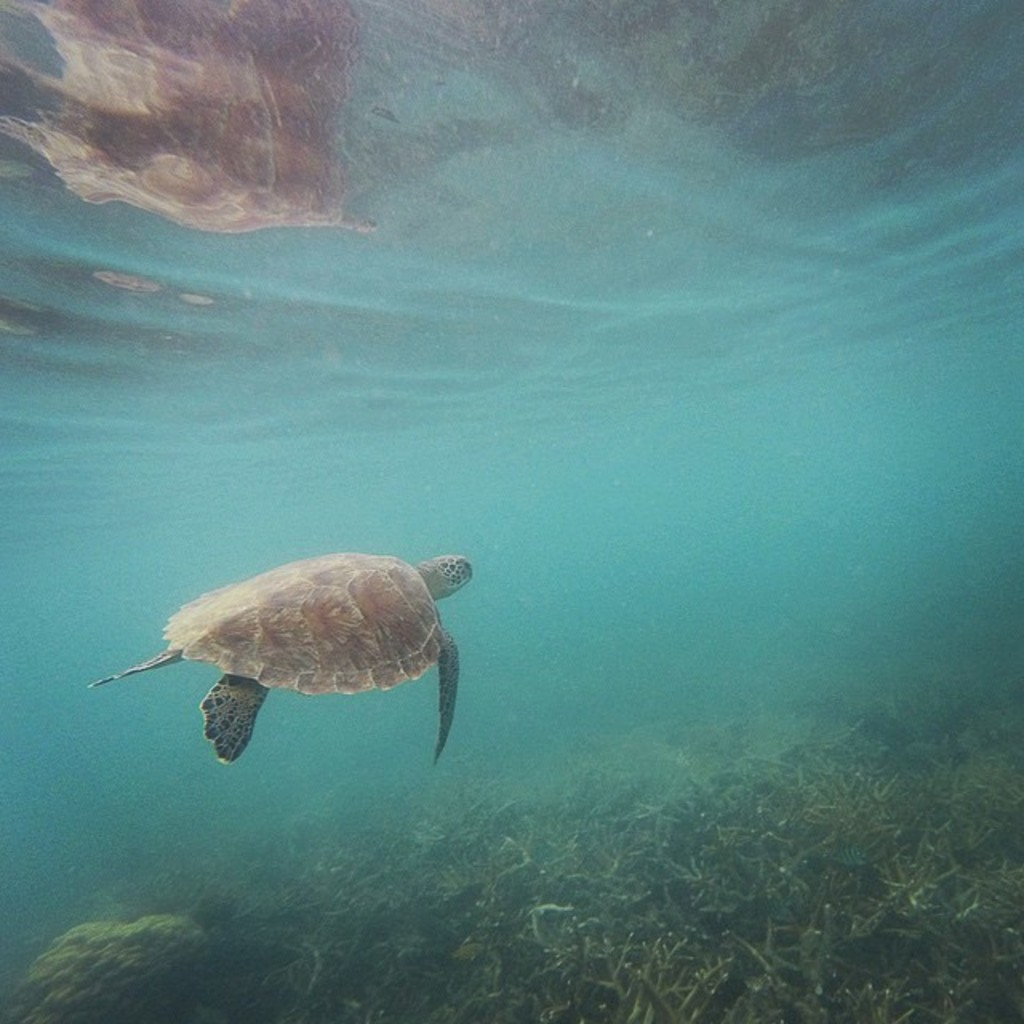Sea turtles: (94, 544, 486, 772)
